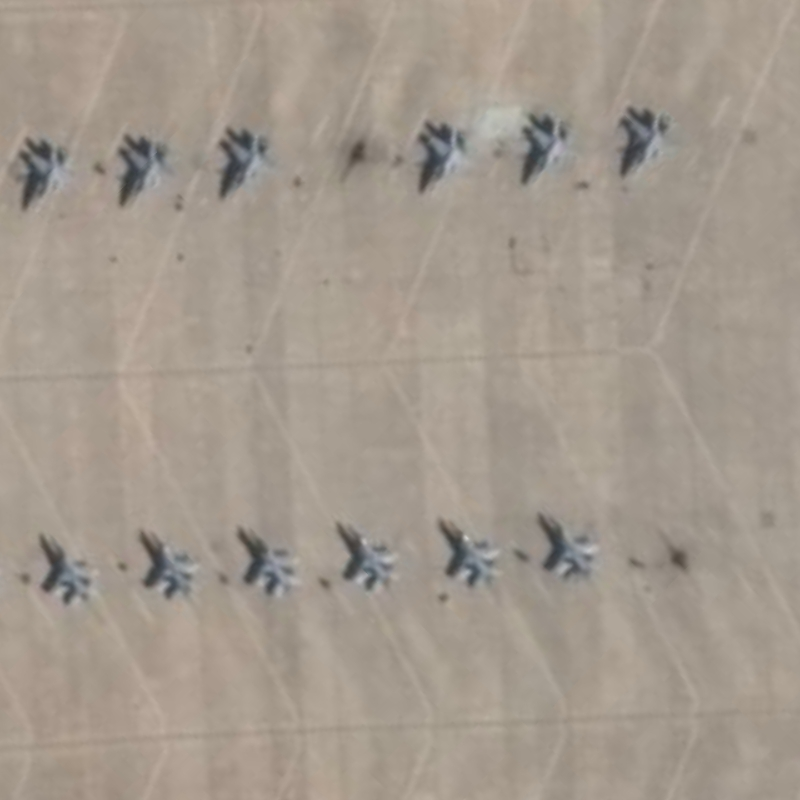A16: (207, 119, 279, 205), (406, 117, 478, 200), (110, 128, 177, 214), (38, 527, 106, 608), (614, 101, 678, 187), (136, 520, 204, 600), (516, 102, 579, 188), (16, 136, 79, 218), (239, 522, 306, 599), (536, 505, 602, 583), (340, 511, 402, 594), (443, 511, 504, 592)
